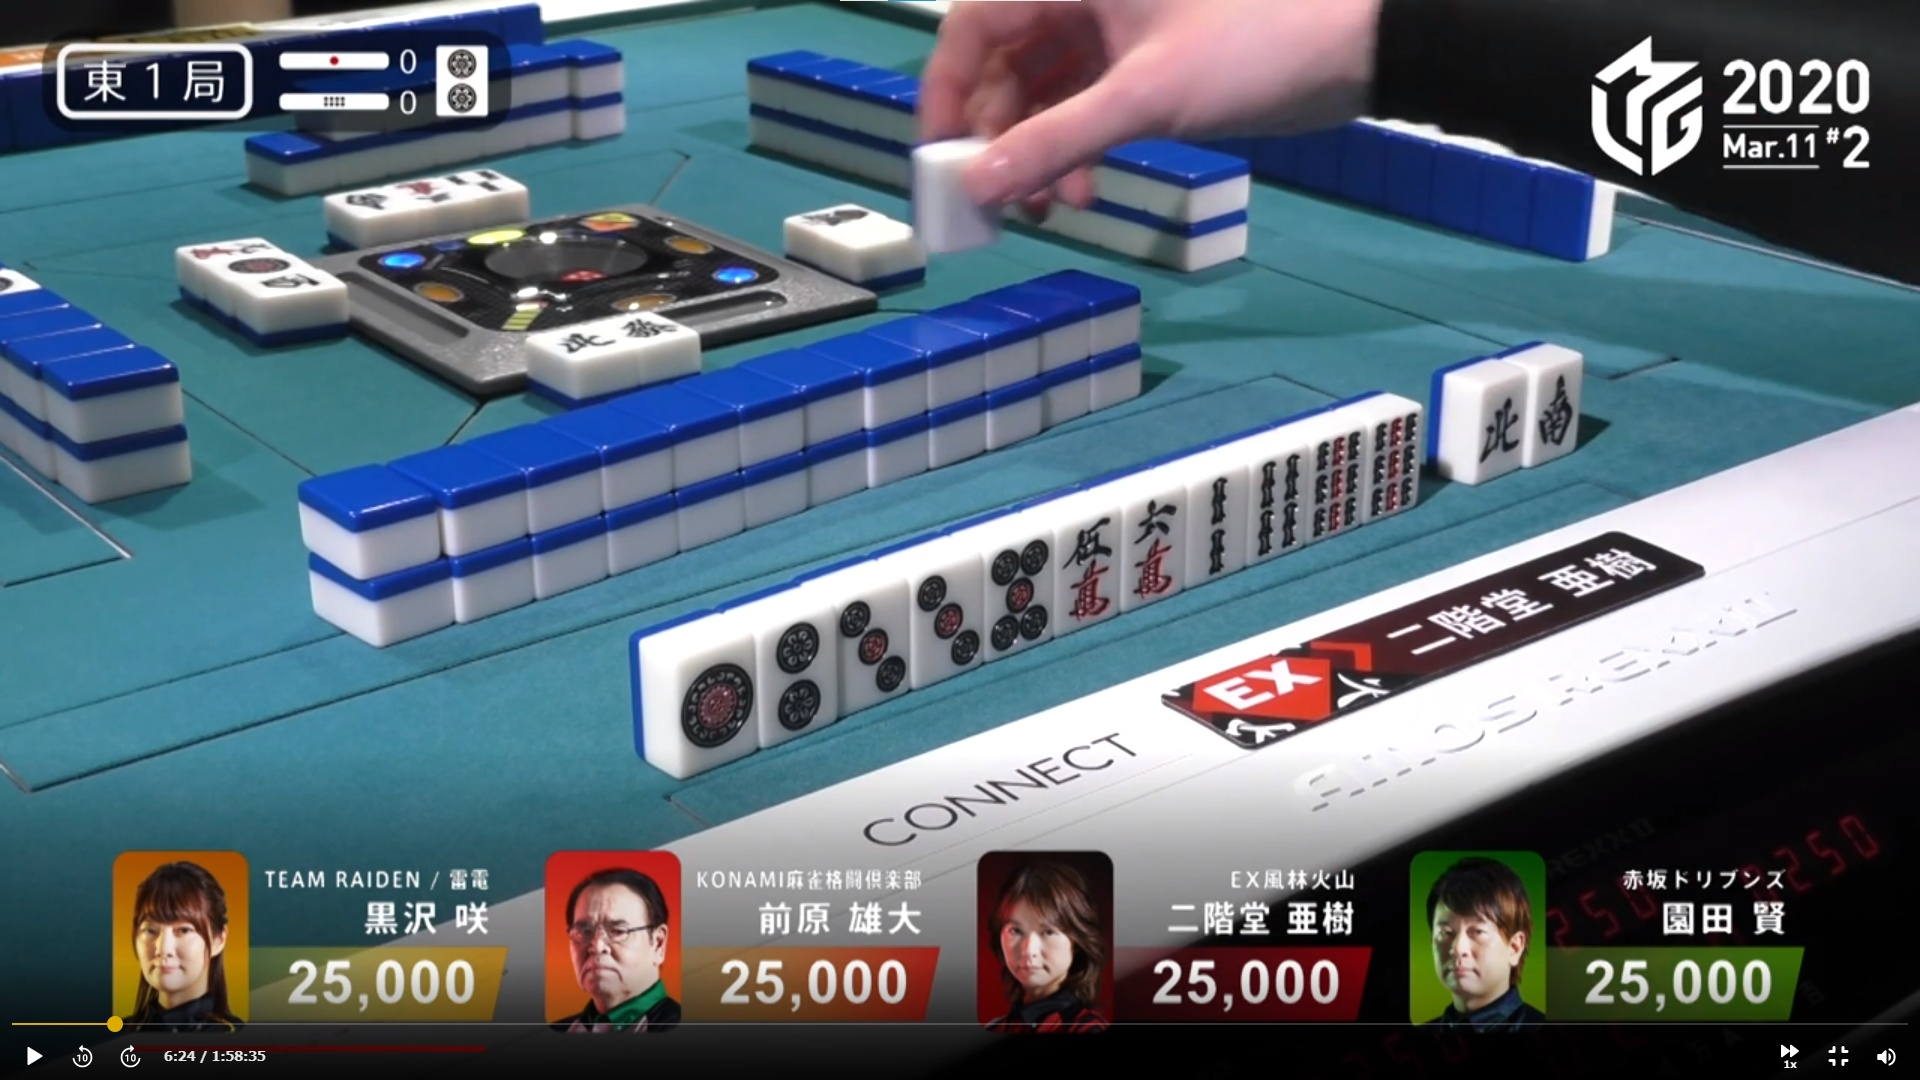1p: (661, 624, 754, 765)
2p: (758, 588, 835, 740)
2s: (1187, 444, 1238, 582)
3p: (833, 564, 910, 709), (910, 541, 977, 680)
4s: (1238, 429, 1302, 560)
5m: (1058, 491, 1113, 630)
5p: (978, 517, 1056, 650)
6m: (1124, 462, 1182, 609)
9s: (1298, 411, 1362, 541), (1361, 392, 1418, 520)
hand_ton_1: (47, 38, 269, 119)
nan: (1524, 342, 1580, 462)
pei: (1451, 363, 1522, 473)
round_0: (265, 82, 423, 117)
team_exfurinkazan: (1150, 622, 1447, 752)
